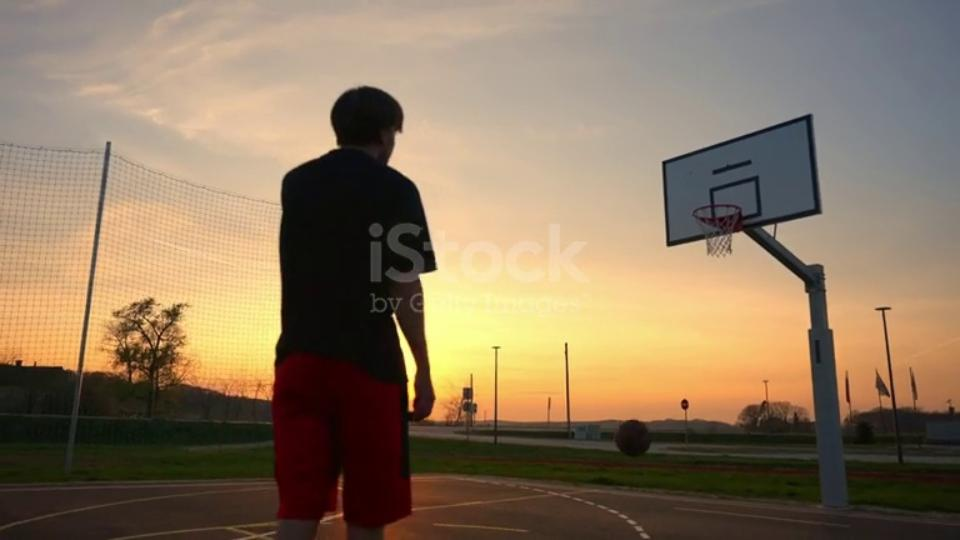hoop: (689, 202, 751, 230)
